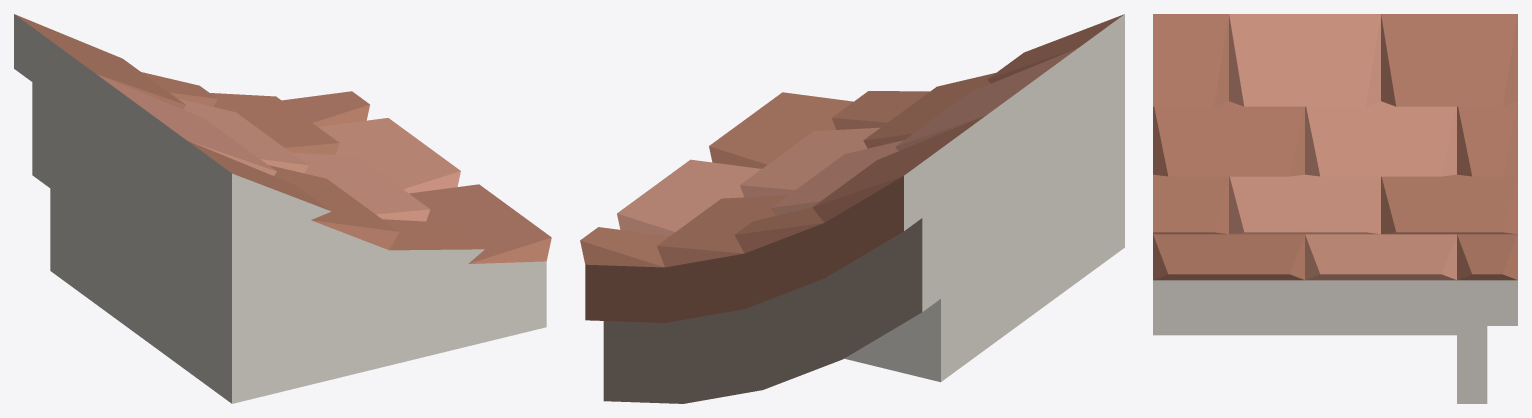
File: Roof_Concave_Side_Edge.glb
3 renders of one model, left to right at view 1: azimuth 30°, elevation 25°; view 2: azimuth 150°, elevation 25°; view 3: azimuth 270°, elevation 25°, orthographic. The views are drawn at different scales.
Visible parts, largest first — view 1: object1; view 2: object1; view 3: object1.
Part boxes in pixels (x1,y1,x2,y2): object1: (14,14,551,403); object1: (580,14,1124,403); object1: (1153,14,1517,403).
Bounding box in the file's own units: 1.05 × 0.9495 × 1.2.
